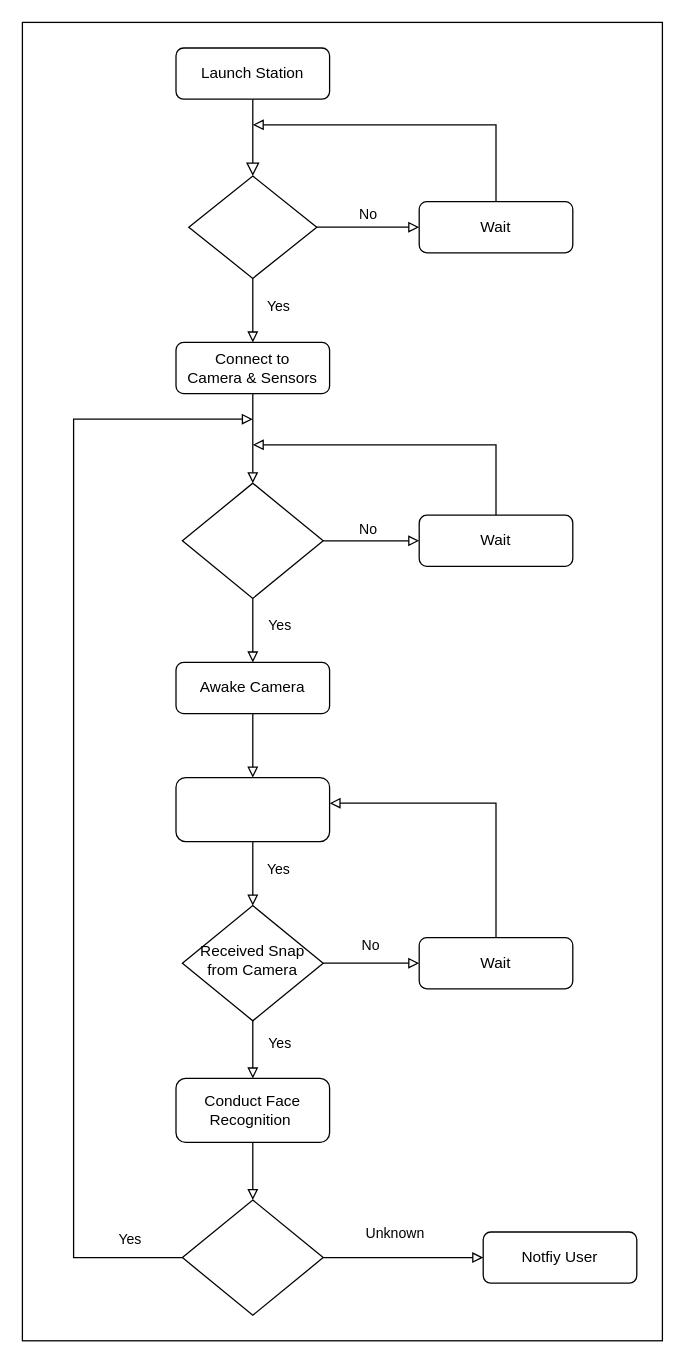
Image size: 685x1363. Some labels were removed from this diagram. Each missing label, with the box of its shape:
Check Authentication: (181, 1199, 323, 1315)
Instruct Camera Take Snap: (175, 776, 330, 842)
Received Message from Snesors: (181, 482, 323, 598)
User Connected: (188, 175, 317, 278)
